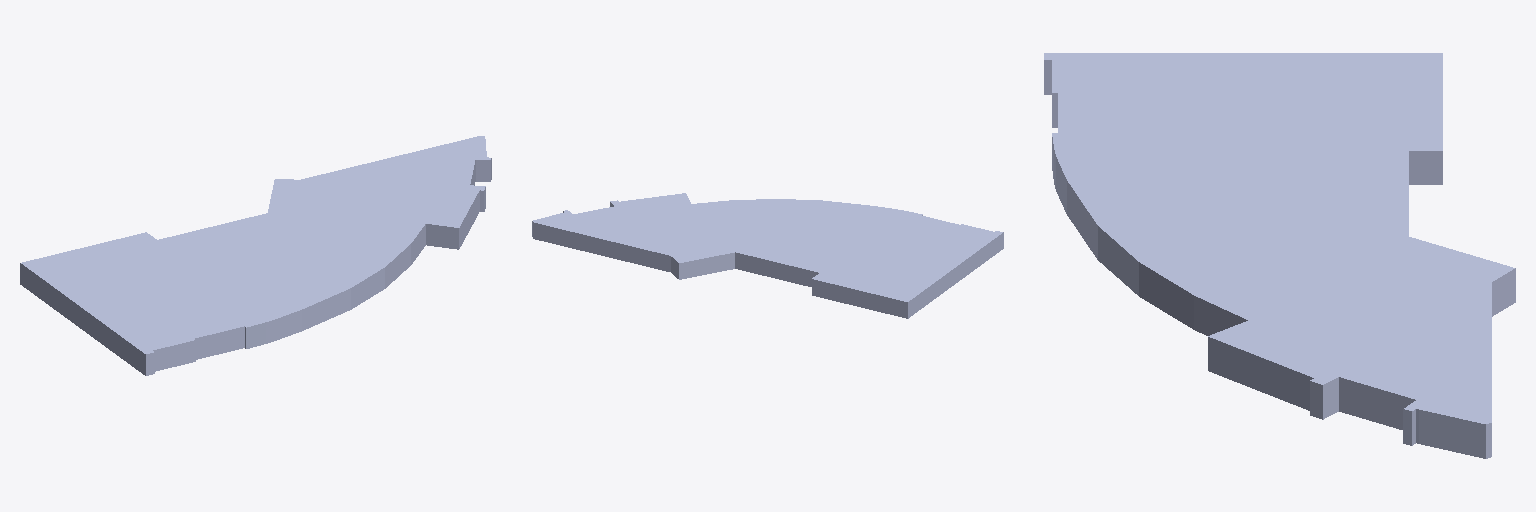
robot.urdf — u005_v1:
<?xml version="1.0" encoding="utf-8"?>
<!-- This URDF was automatically created by SolidWorks to URDF Exporter! Originally created by [author] ([email redacted]) 
     Commit Version: 1.6.0-1-g15f4949  Build Version: 1.6.7594.29634
     For more information, please see http://wiki.ros.org/sw_urdf_exporter -->
<robot
  name="u005_v1">
  <link
    name="base_link">
    <inertial>
      <origin
        xyz="19.22718200864 -8.18507576144312 -0.999999999999996"
        rpy="0 0 0" />
      <mass
        value="1440351.18891264" />
      <inertia
        ixx="50756886.5455996"
        ixy="-46049923.7642756"
        ixz="1.33551407861937E-09"
        iyy="208206690.390245"
        iyz="-2.31902709869171E-11"
        izz="258003342.809903" />
    </inertial>
    <visual>
      <origin
        xyz="0 0 0"
        rpy="0 0 0" />
      <geometry>
        <mesh
          filename="package://u005_v1/meshes/base_link.STL" />
      </geometry>
      <material
        name="">
        <color
          rgba="0.792156862745098 0.819607843137255 0.933333333333333 1" />
      </material>
    </visual>
    <collision>
      <origin
        xyz="0 0 0"
        rpy="0 0 0" />
      <geometry>
        <mesh
          filename="package://u005_v1/meshes/base_link.STL" />
      </geometry>
    </collision>
  </link>
</robot>

--- Render facts (derived) ---
Views: 3 orthographic renders of the robot side by side, from view 1: azimuth 30°, elevation 25°; view 2: azimuth 150°, elevation 25°; view 3: azimuth 270°, elevation 25°.
Robot: u005_v1 — 1 links, 0 joints (none); root link base_link; default pose: every joint at zero.
Visible links, largest first — view 1: base_link; view 2: base_link; view 3: base_link.
Link boxes in pixels (bbox=[...]): base_link: bbox=[20, 136, 491, 375]; base_link: bbox=[532, 193, 1003, 318]; base_link: bbox=[1044, 53, 1515, 458].
Bounding box of the posed robot: 46.12 × 24.7 × 2 m (x, y, z).
1 mesh visuals loaded from 1 distinct referenced files (1 binary STL).
